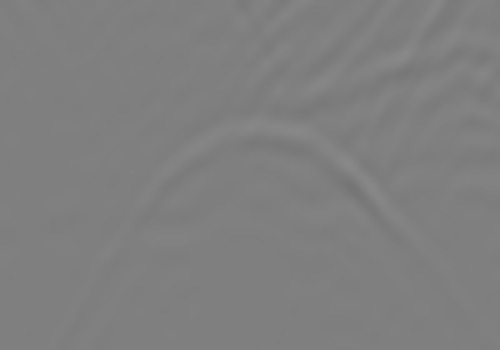hyperbola: (73, 113, 469, 335)
